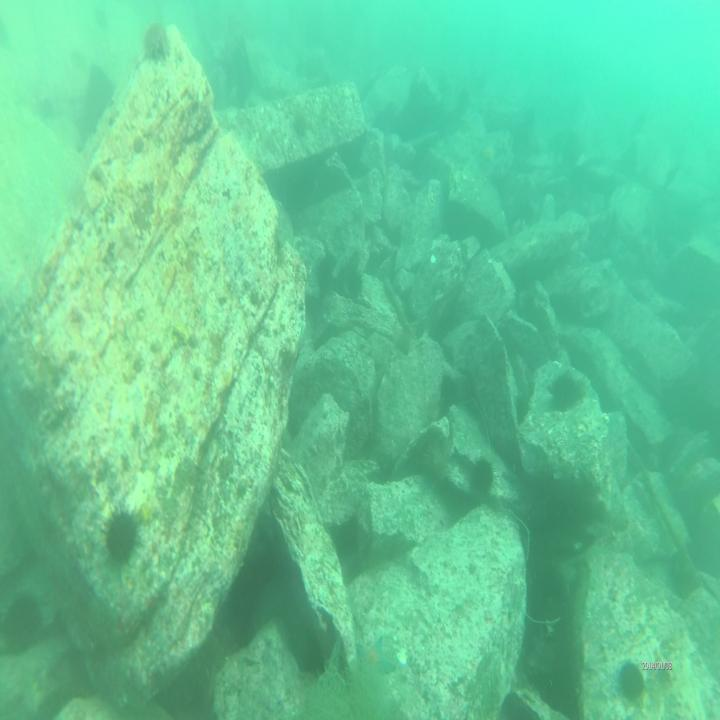echinus: (102, 503, 145, 576), (0, 590, 44, 650), (548, 368, 588, 413), (469, 448, 493, 502), (617, 660, 647, 702), (342, 262, 366, 304)
starfish: (352, 632, 397, 694)
